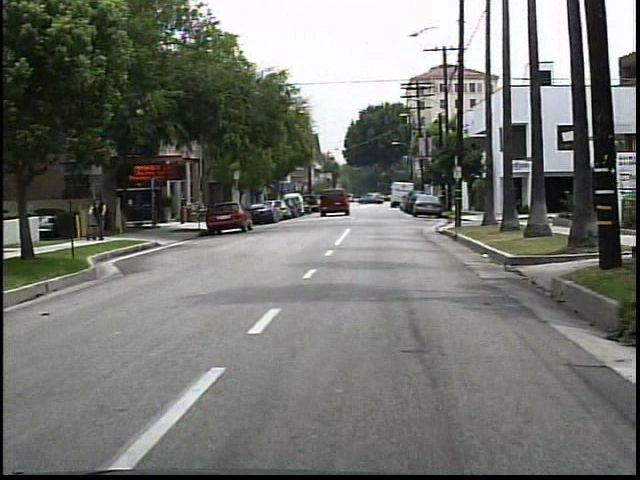person: (87, 193, 112, 243)
